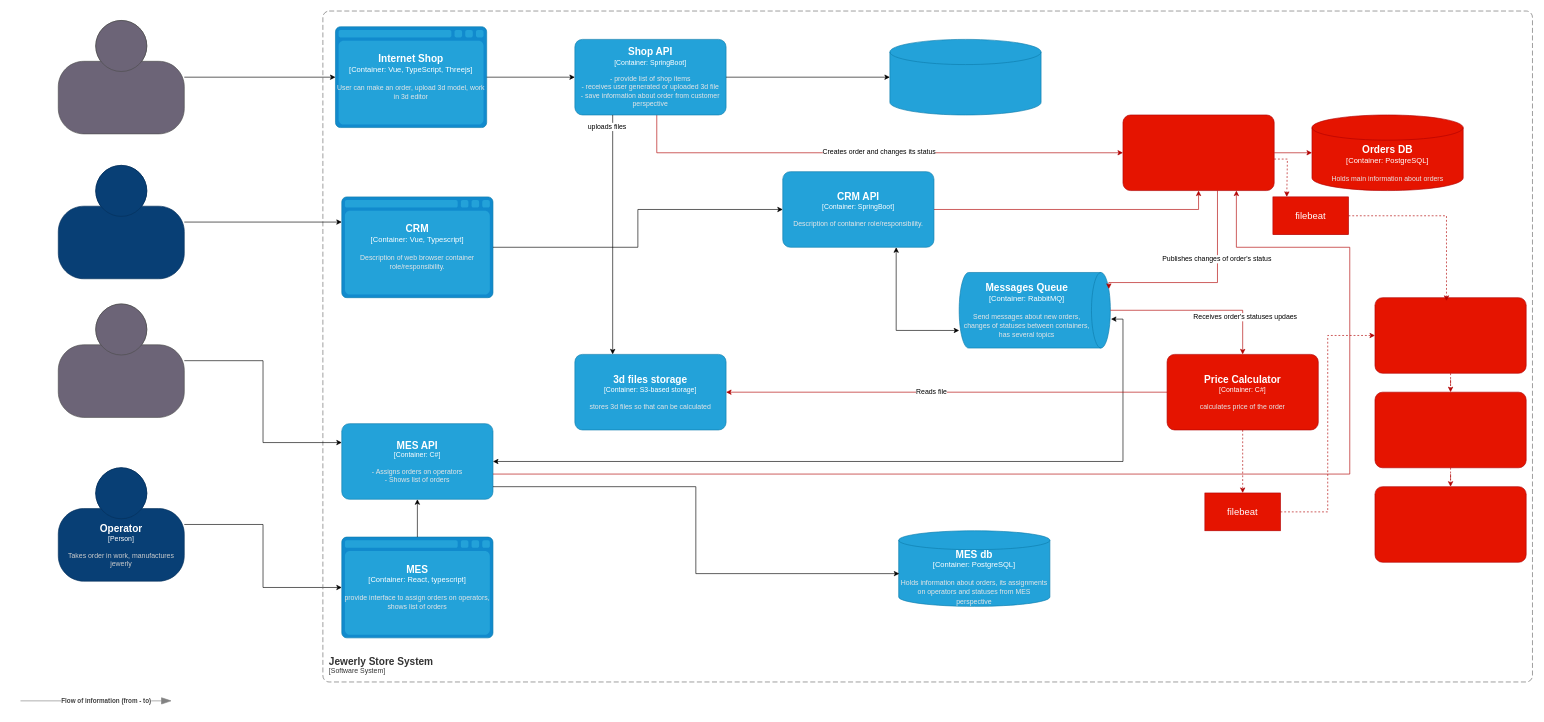
This 1544x722 diagram has some shape labels left out. Each missing label, with the centre of its shape:
"API user [Person] Description of external person." belongs at (x=121, y=360).
"Customer [Person] Description of external person." belongs at (x=121, y=77).
"ElasticSearch [Container: Java]" belongs at (x=1450, y=430).
"Kibana [Container: Java]" belongs at (x=1450, y=524).
"Logstash [Container: Java]" belongs at (x=1450, y=335).
"Orders Service [Container: SpringBoot] manages orders" belongs at (x=1198, y=152).
"Seller [Person] Operates with order, confirms manufacturing for the user" belongs at (x=121, y=222).
"Shop DB [Container: PostgreSQL] Holds main information about work with customers" belongs at (x=965, y=77).
